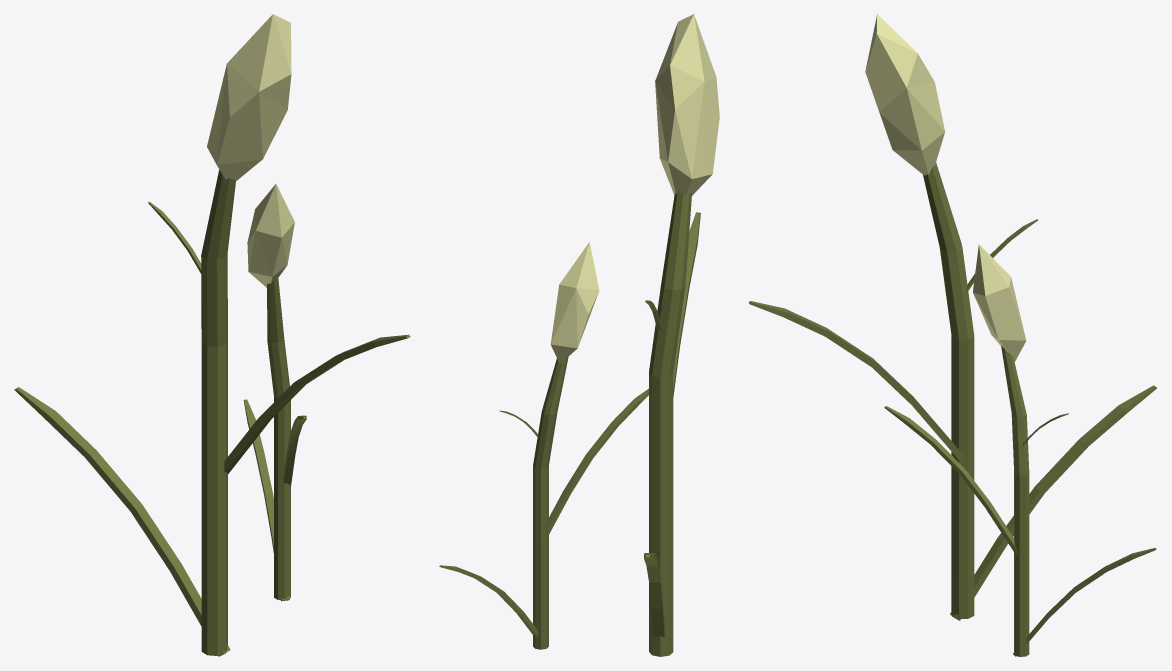
The model's file is エノコログサ.fbx.
The picture shows the model from 3 angles, left to right: view 1: azimuth 30°, elevation 25°; view 2: azimuth 150°, elevation 25°; view 3: azimuth 270°, elevation 25°; orthographic projection. The views are drawn at different scales.
Parts seen in each view (by area): view 1: 立方体.001, ICO球.001; view 2: 立方体.001, ICO球.001; view 3: 立方体.001, ICO球.001.
Boxes of the visible parts, x1,y1,x2,y2 form: 立方体.001: (14, 169, 410, 656); ICO球.001: (207, 14, 294, 287); 立方体.001: (439, 192, 700, 656); ICO球.001: (550, 14, 719, 363); 立方体.001: (748, 162, 1156, 656); ICO球.001: (865, 14, 1026, 361).
Bounding box in the file's own units: 112 × 308 × 188.
